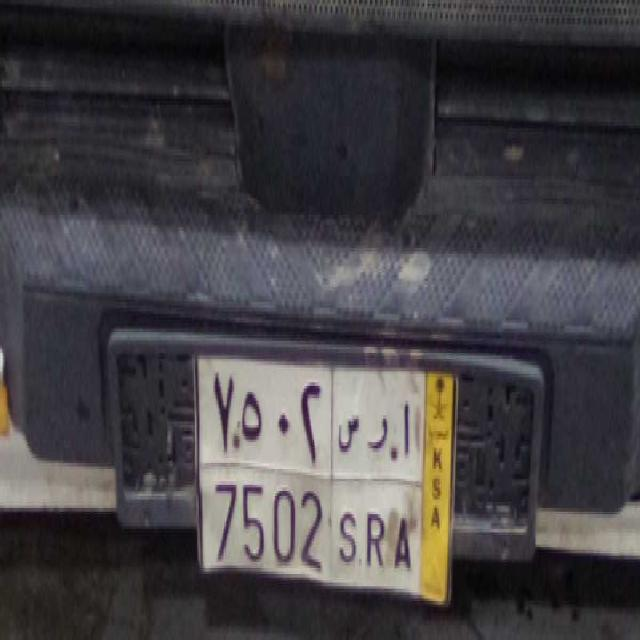license_plate: (202, 464, 420, 595)
